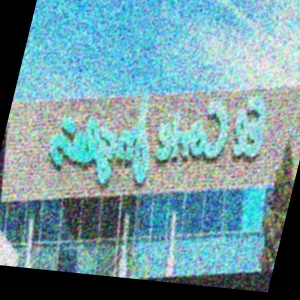corte_ingles: (258, 38, 300, 144)
